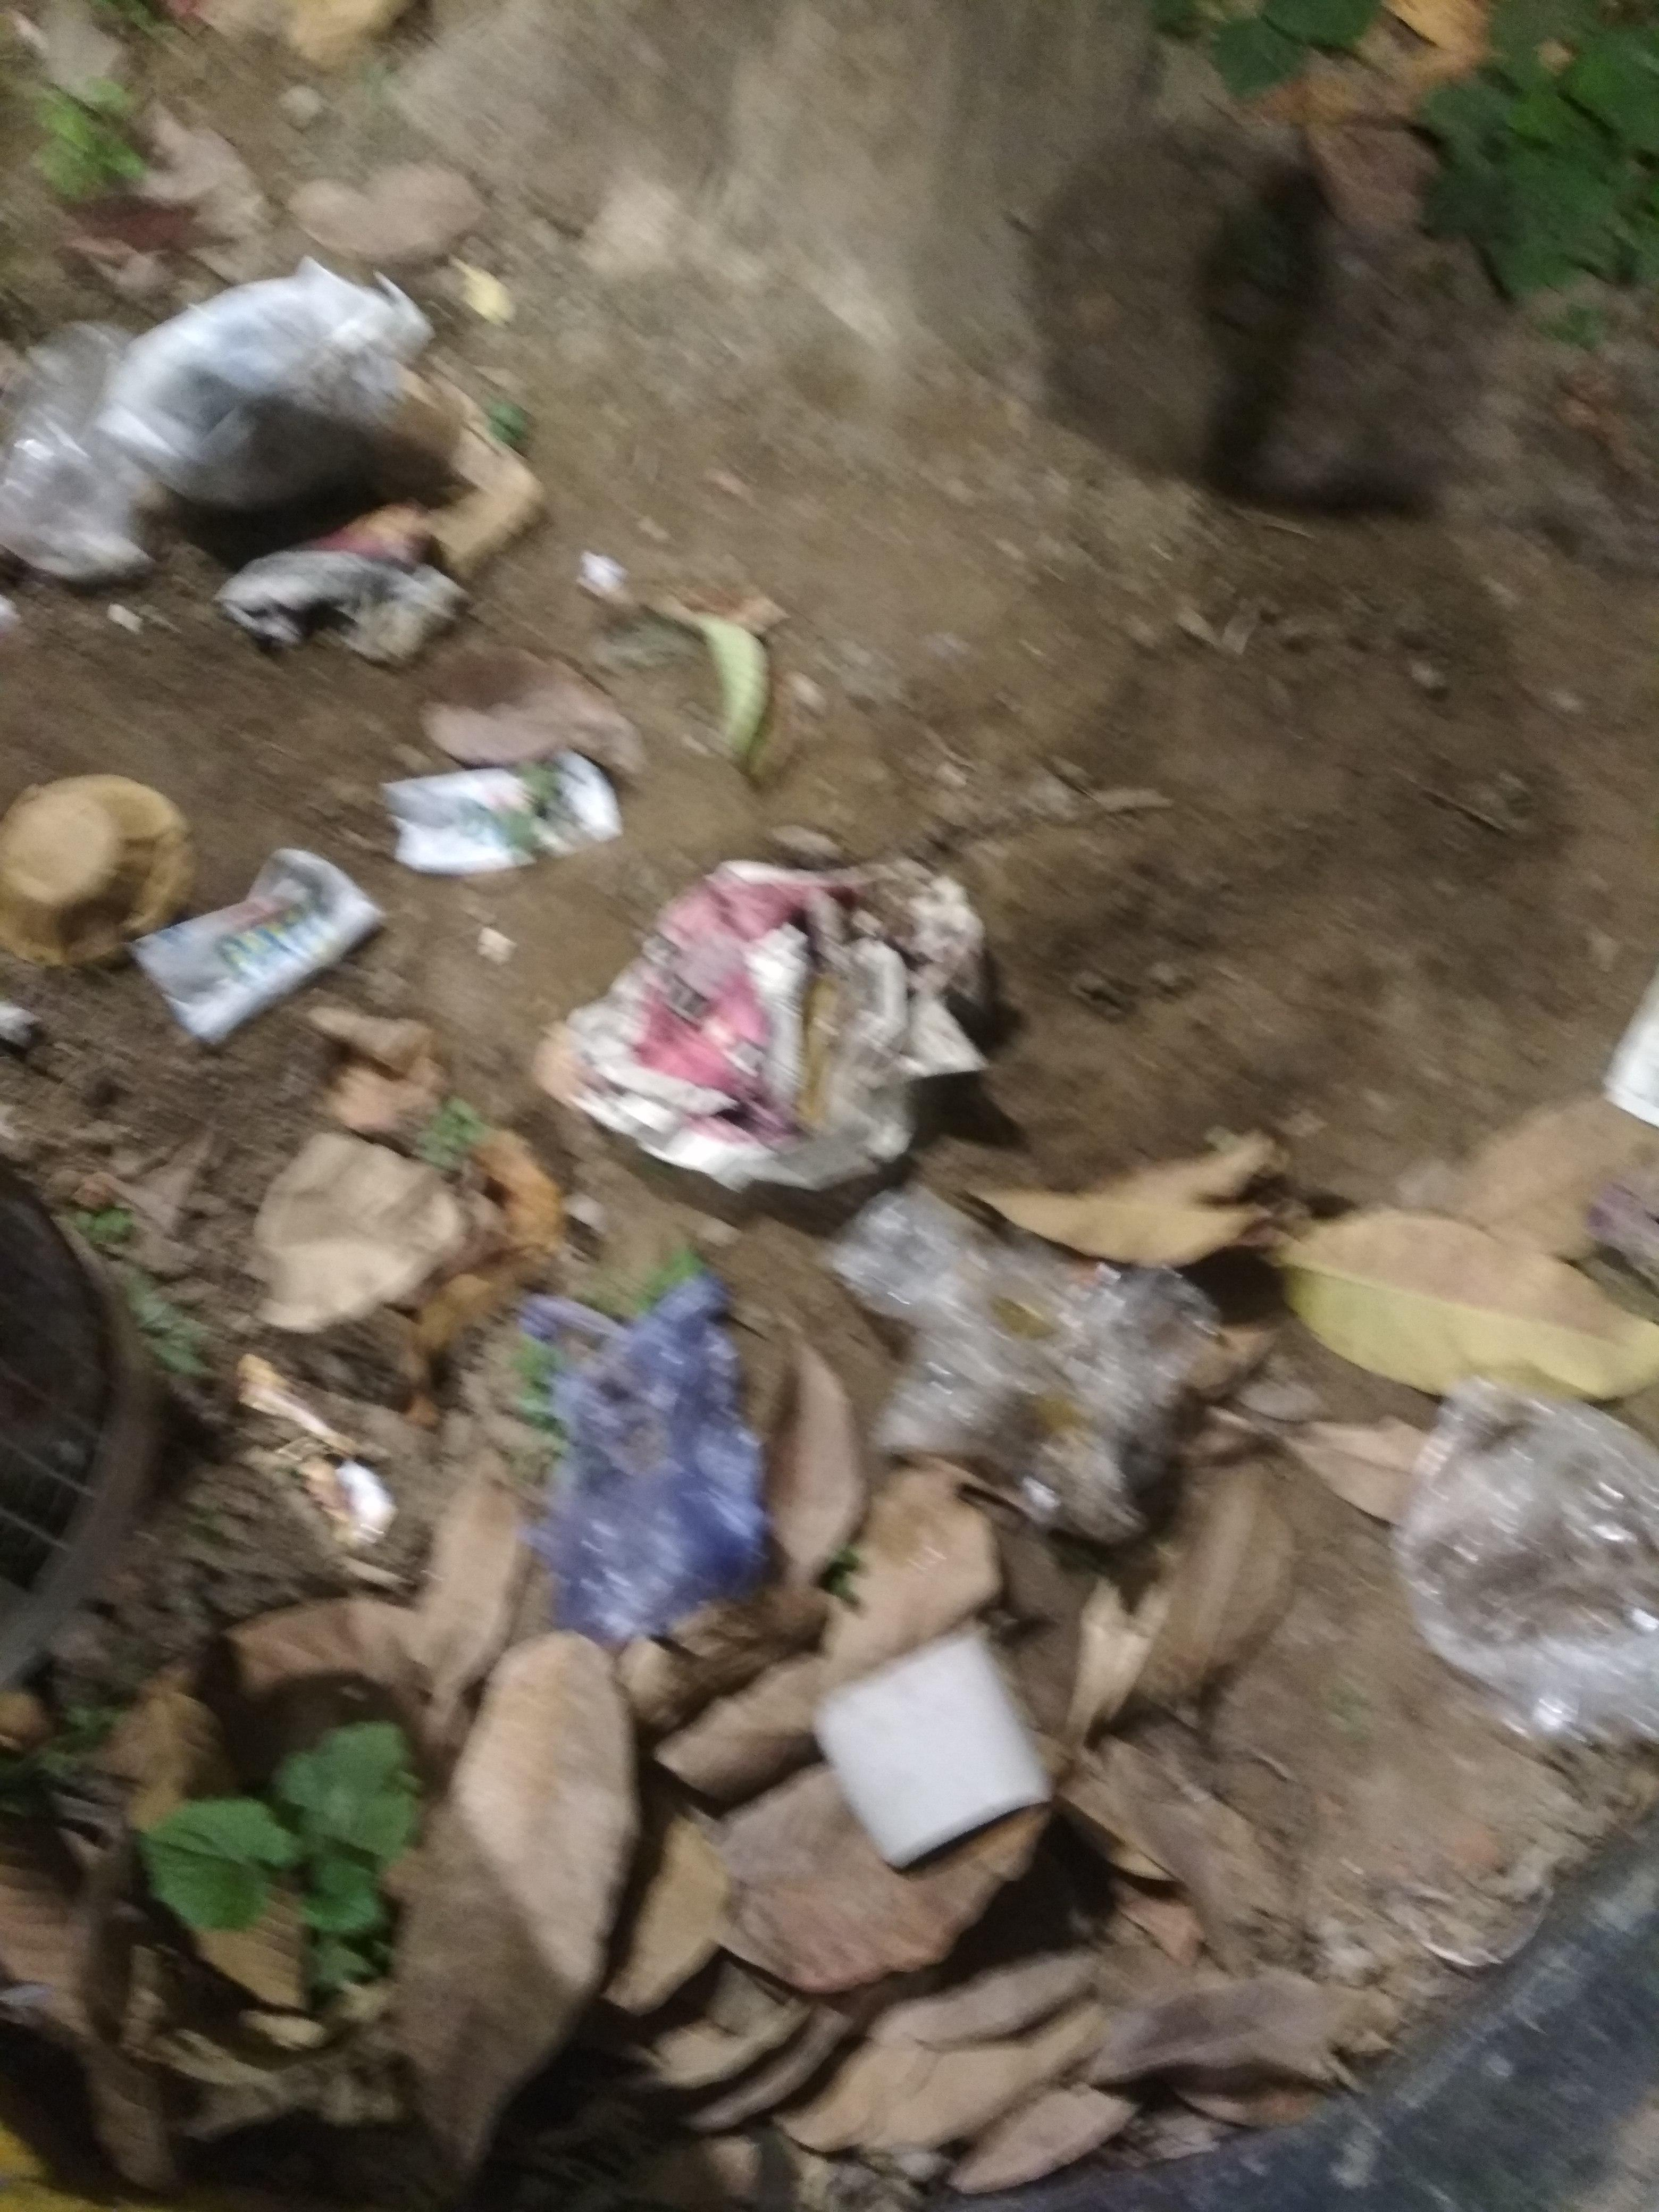trash: (0, 249, 1654, 2212)
